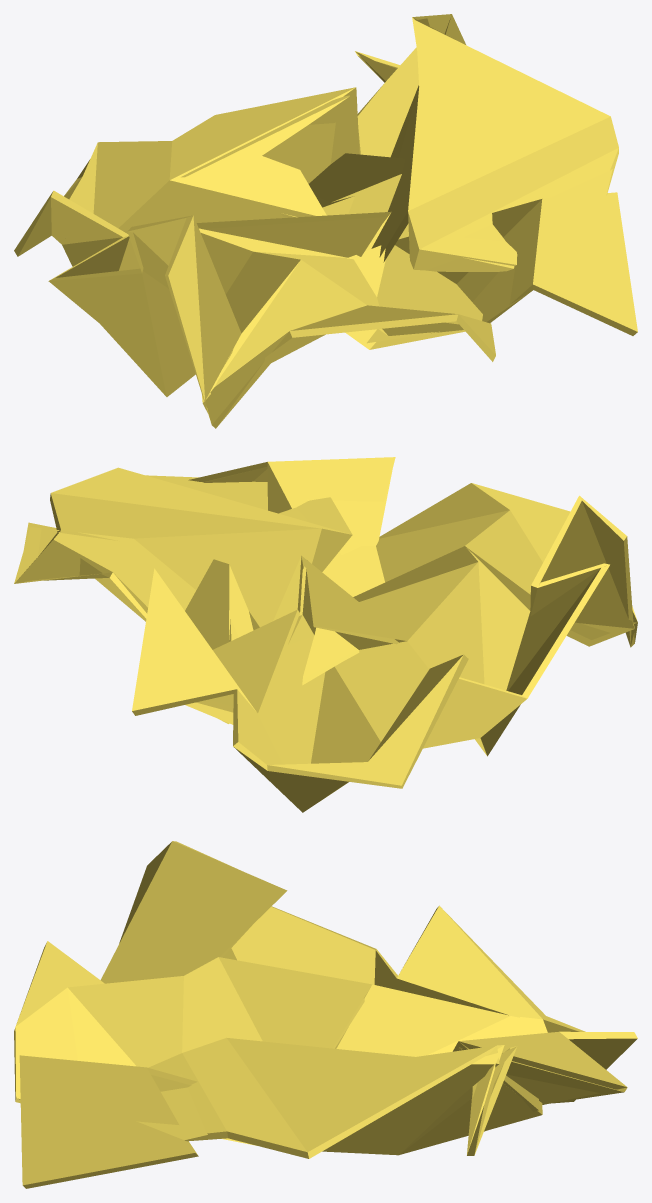
File: scrambledegg.glb
The picture shows the model from 3 angles, top to bottom: view 1: azimuth 30°, elevation 25°; view 2: azimuth 150°, elevation 25°; view 3: azimuth 270°, elevation 25°; orthographic projection. The views are drawn at different scales.
Parts seen in each view (by area): view 1: Plane; view 2: Plane; view 3: Plane.
Boxes of the visible parts, x1,y1,x2,y2 form: Plane: [14, 14, 637, 428]; Plane: [14, 457, 637, 812]; Plane: [14, 841, 637, 1188].
Bounding box in the file's own units: 2.48 × 1.05 × 2.46.
1 material, 1 textured.
